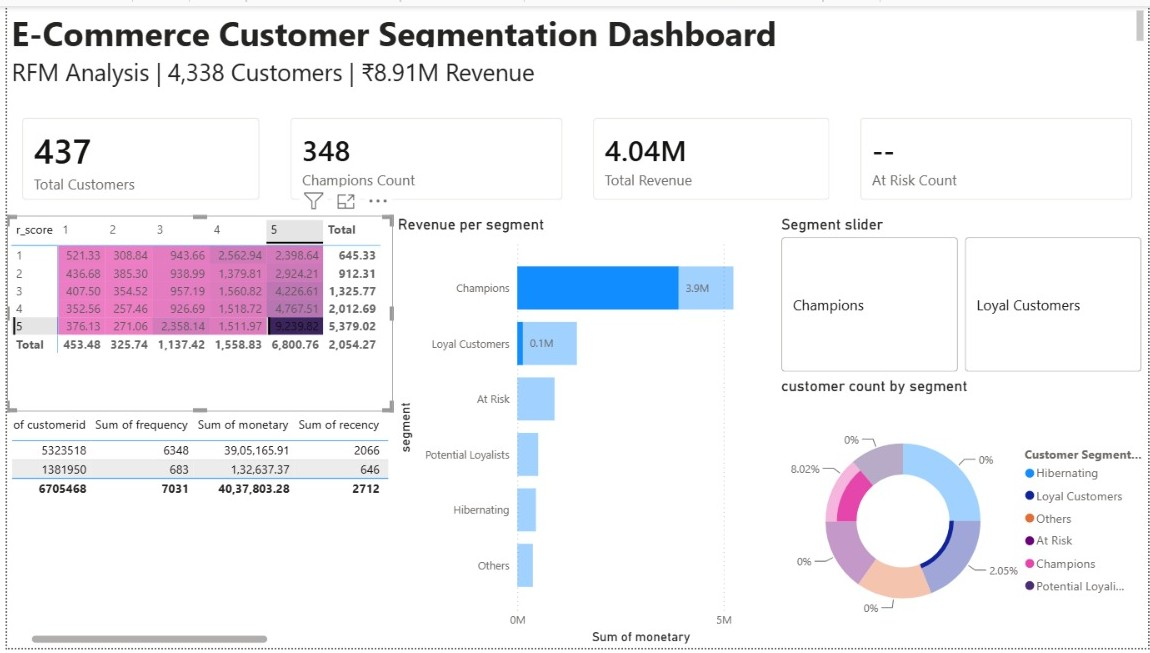

Layout of this report page (visuals, bound fields, positions):
{"tool":"powerbi","page":{"name":"Page 1","canvas":[1280,720],"ordinal":0},"visuals":[{"type":"cardVisual","fields":{"Data":["Count(powerbi_rfm.customerid)"]},"box":[0,108.2,300.9,126.8],"z":0},{"type":"cardVisual","fields":{"Data":["Sum(powerbi_rfm.monetary)"]},"box":[640.7,108.2,299.2,126.8],"z":1000},{"type":"cardVisual","fields":{"Data":["powerbi_rfm.Champions Count"]},"box":[300.9,108.2,339.8,126.8],"z":2000},{"type":"donutChart","title":"customer count by segment","fields":{"Category":["powerbi_rfm.segment"],"Y":["Count(powerbi_rfm.customerid)"]},"box":[863.9,415.9,415.9,304.3],"z":3000},{"type":"clusteredBarChart","title":"Revenue per segment","fields":{"Category":["powerbi_rfm.segment"],"Y":["Sum(powerbi_rfm.monetary)"]},"box":[432.8,235,431.1,485.2],"z":4000},{"type":"cardVisual","fields":{"Data":["powerbi_rfm.At Risk Count"]},"box":[939.9,108.2,339.8,126.8],"z":5000},{"type":"textbox","box":[0,0,1279.7,50.7],"z":6000},{"type":"textbox","box":[0,50.7,1279.7,57.5],"z":7000},{"type":"pivotTable","fields":{"Rows":["powerbi_rfm.r_score"],"Columns":["powerbi_rfm.f_score"],"Values":["Avg(powerbi_rfm.monetary)"]},"box":[0,235,432.8,219.8],"z":8000},{"type":"tableEx","fields":{"Values":["Sum(powerbi_rfm.customerid)","Sum(powerbi_rfm.frequency)","Sum(powerbi_rfm.monetary)","Sum(powerbi_rfm.recency)","Sum(powerbi_rfm.rfm_score)","powerbi_rfm.segment"]},"box":[0,454.8,432.8,265.4],"z":9000},{"type":"advancedSlicerVisual","title":"Segment slider","fields":{"Values":["powerbi_rfm.segment"]},"box":[863.9,235,415.9,180.9],"z":10000}]}

Visuals, with their boxes in screenshot pixels (x1, y1, x2, y2), scaled from the page's 1280x720 canvas onto the 1150x653 screenshot:
cardVisual - Count(powerbi_rfm.customerid): <box>0,98,270,213</box>
cardVisual - Sum(powerbi_rfm.monetary): <box>576,98,844,213</box>
cardVisual - powerbi_rfm.Champions Count: <box>270,98,576,213</box>
"customer count by segment" donutChart: <box>776,377,1149,652</box>
"Revenue per segment" clusteredBarChart: <box>389,213,776,652</box>
cardVisual - powerbi_rfm.At Risk Count: <box>844,98,1149,213</box>
textbox: <box>0,0,1149,46</box>
textbox: <box>0,46,1149,98</box>
pivotTable - powerbi_rfm.r_score x powerbi_rfm.f_score: <box>0,213,389,412</box>
tableEx - Sum(powerbi_rfm.customerid) x Sum(powerbi_rfm.frequency): <box>0,412,389,652</box>
"Segment slider" advancedSlicerVisual: <box>776,213,1149,377</box>
